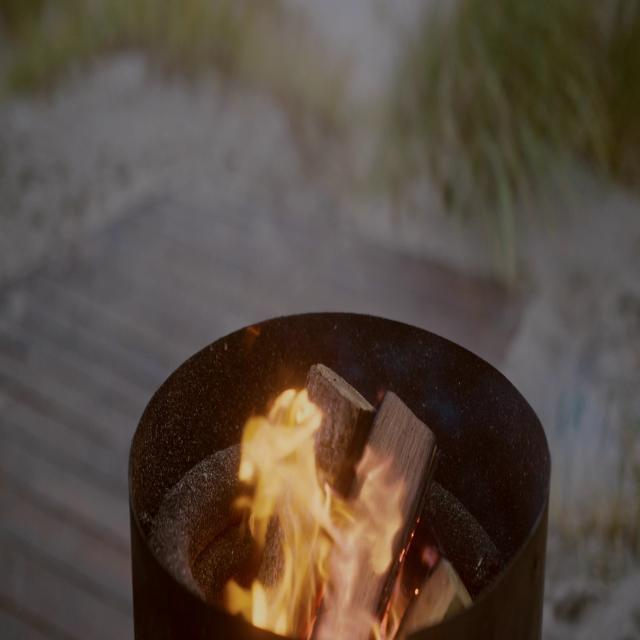Fire: (224, 368, 408, 633)
